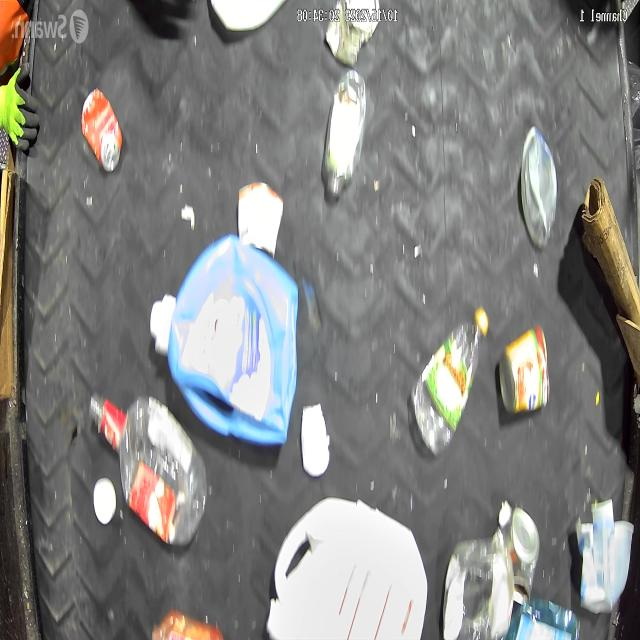can: (408, 304, 489, 458), (438, 523, 512, 640), (492, 497, 545, 616), (80, 79, 126, 186), (497, 328, 548, 424)
milk_jug: (265, 487, 432, 640)
non_white_jug: (149, 233, 298, 455)
